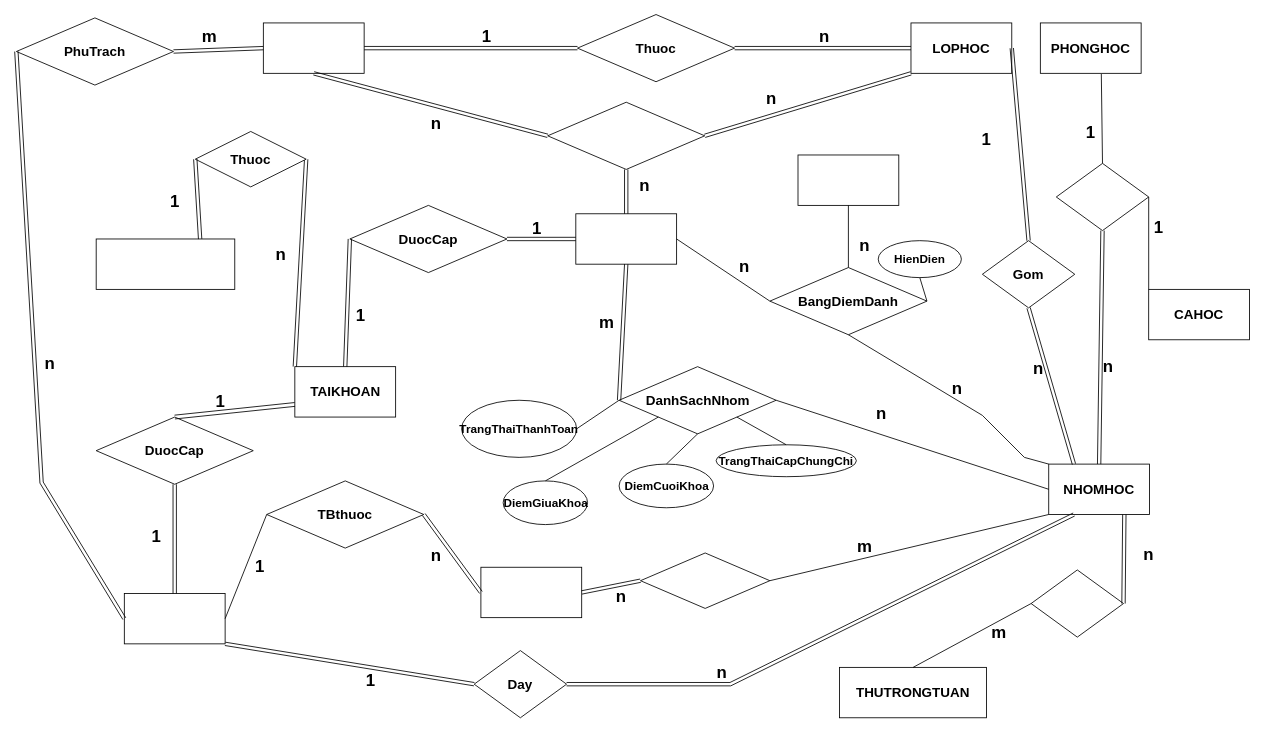
This 1264x733 diagram has some shape labels left out. Here are the shapes that lost their labels. From the top down, the centre of each, then its label:
the point at 313,47: KHOAHOC
the point at 626,135: DangKi
the point at 848,179: NGAYHOC
the point at 1102,197: HocTheo
the point at 626,238: HOCVIEN
the point at 165,263: QUYENNGUOIDUNG
the point at 531,592: THONGBAO
the point at 705,580: TRUYENTIN
the point at 174,618: GIAOVIEN
the point at 1077,603: HocVao
